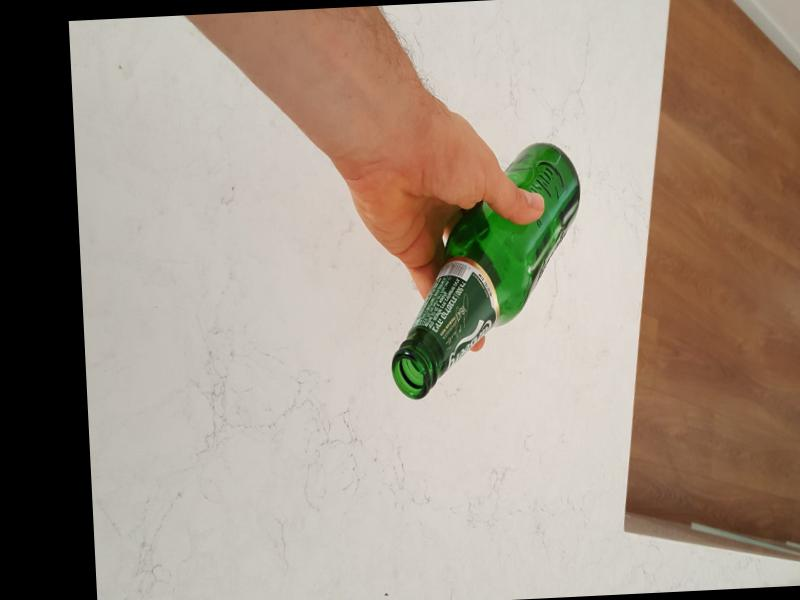Beer: (378, 143, 589, 402)
